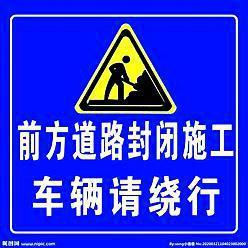sign: (8, 10, 240, 235)
